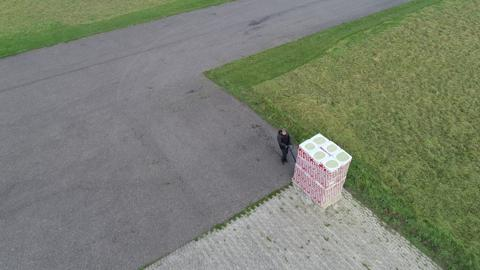RockwoolPallet: (291, 133, 352, 208)
